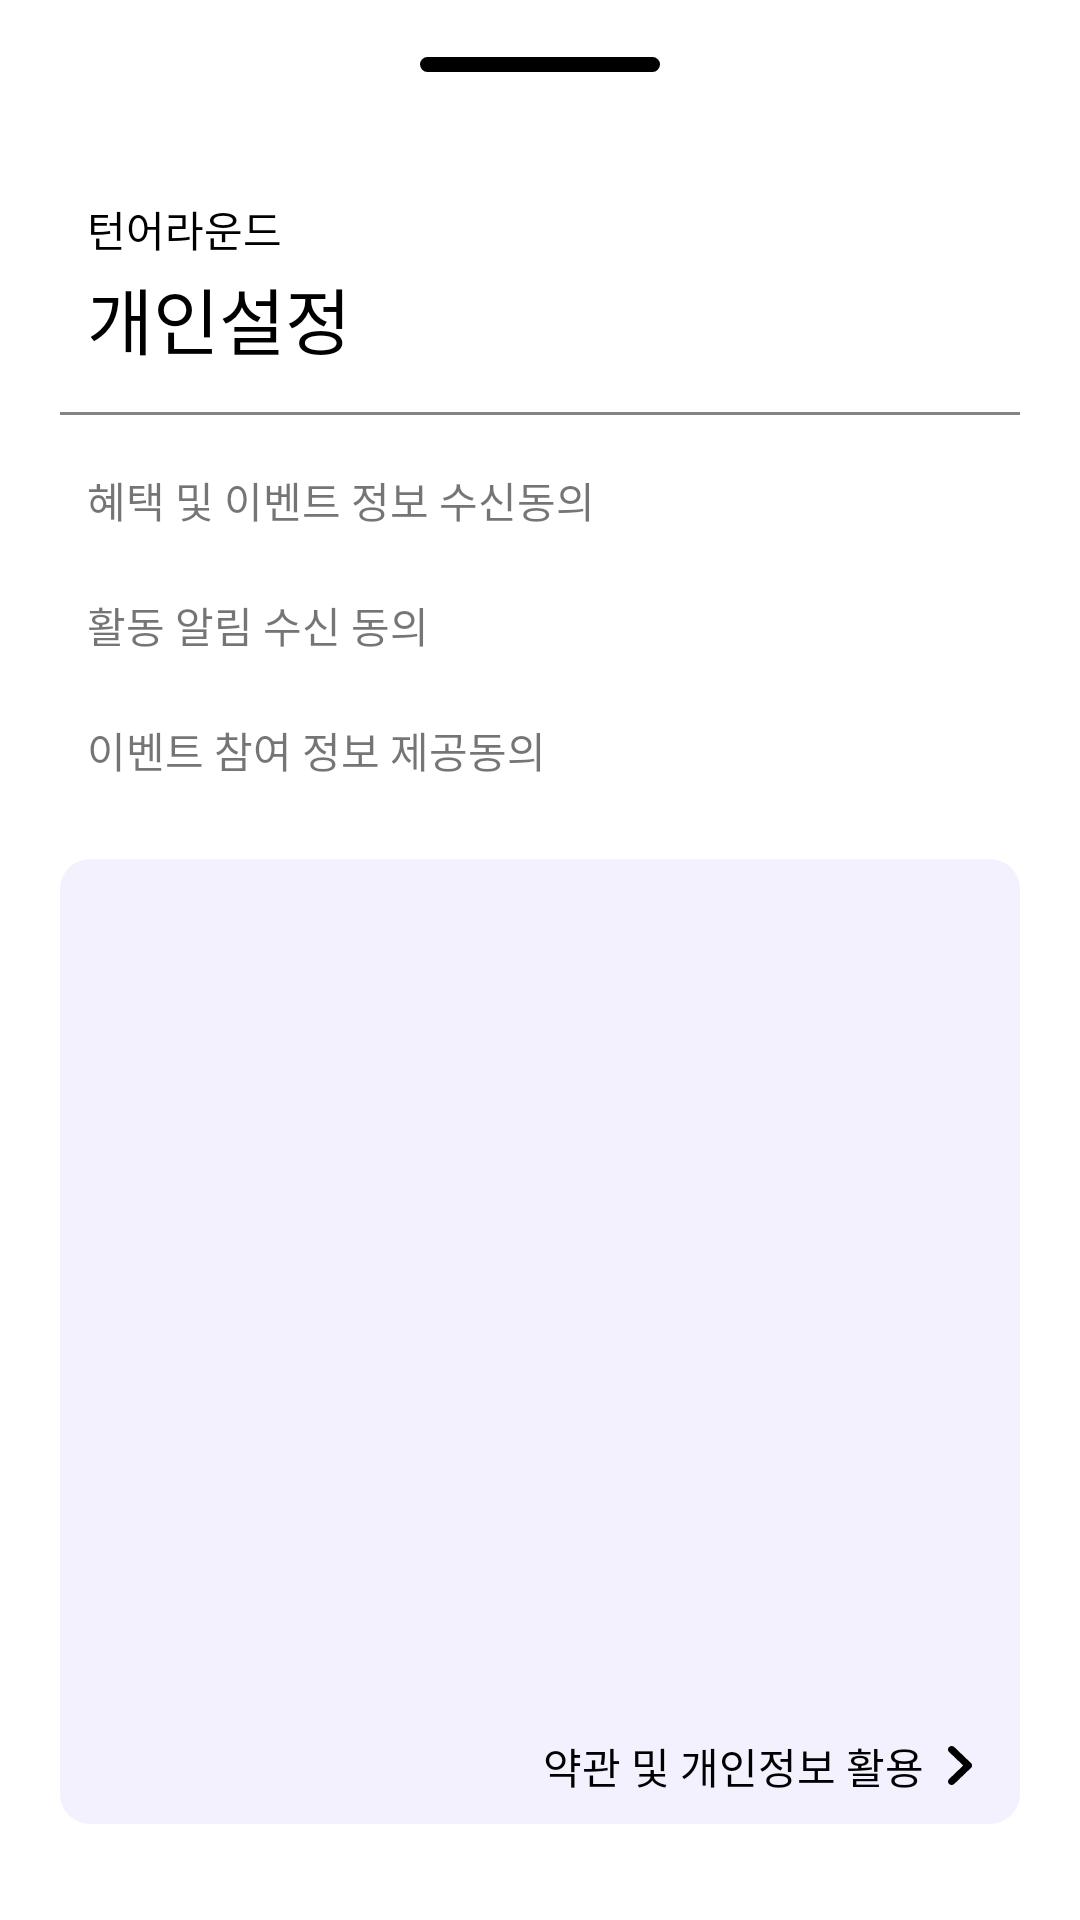

Screen size 1080px x 1920px. Icon name, then its center in pixels as point (x, y):
right: point (960, 1765)
